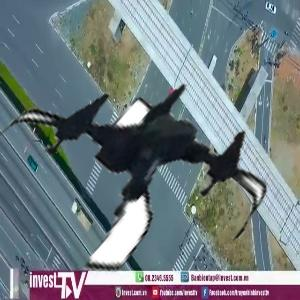drone: (14, 41, 265, 292)
